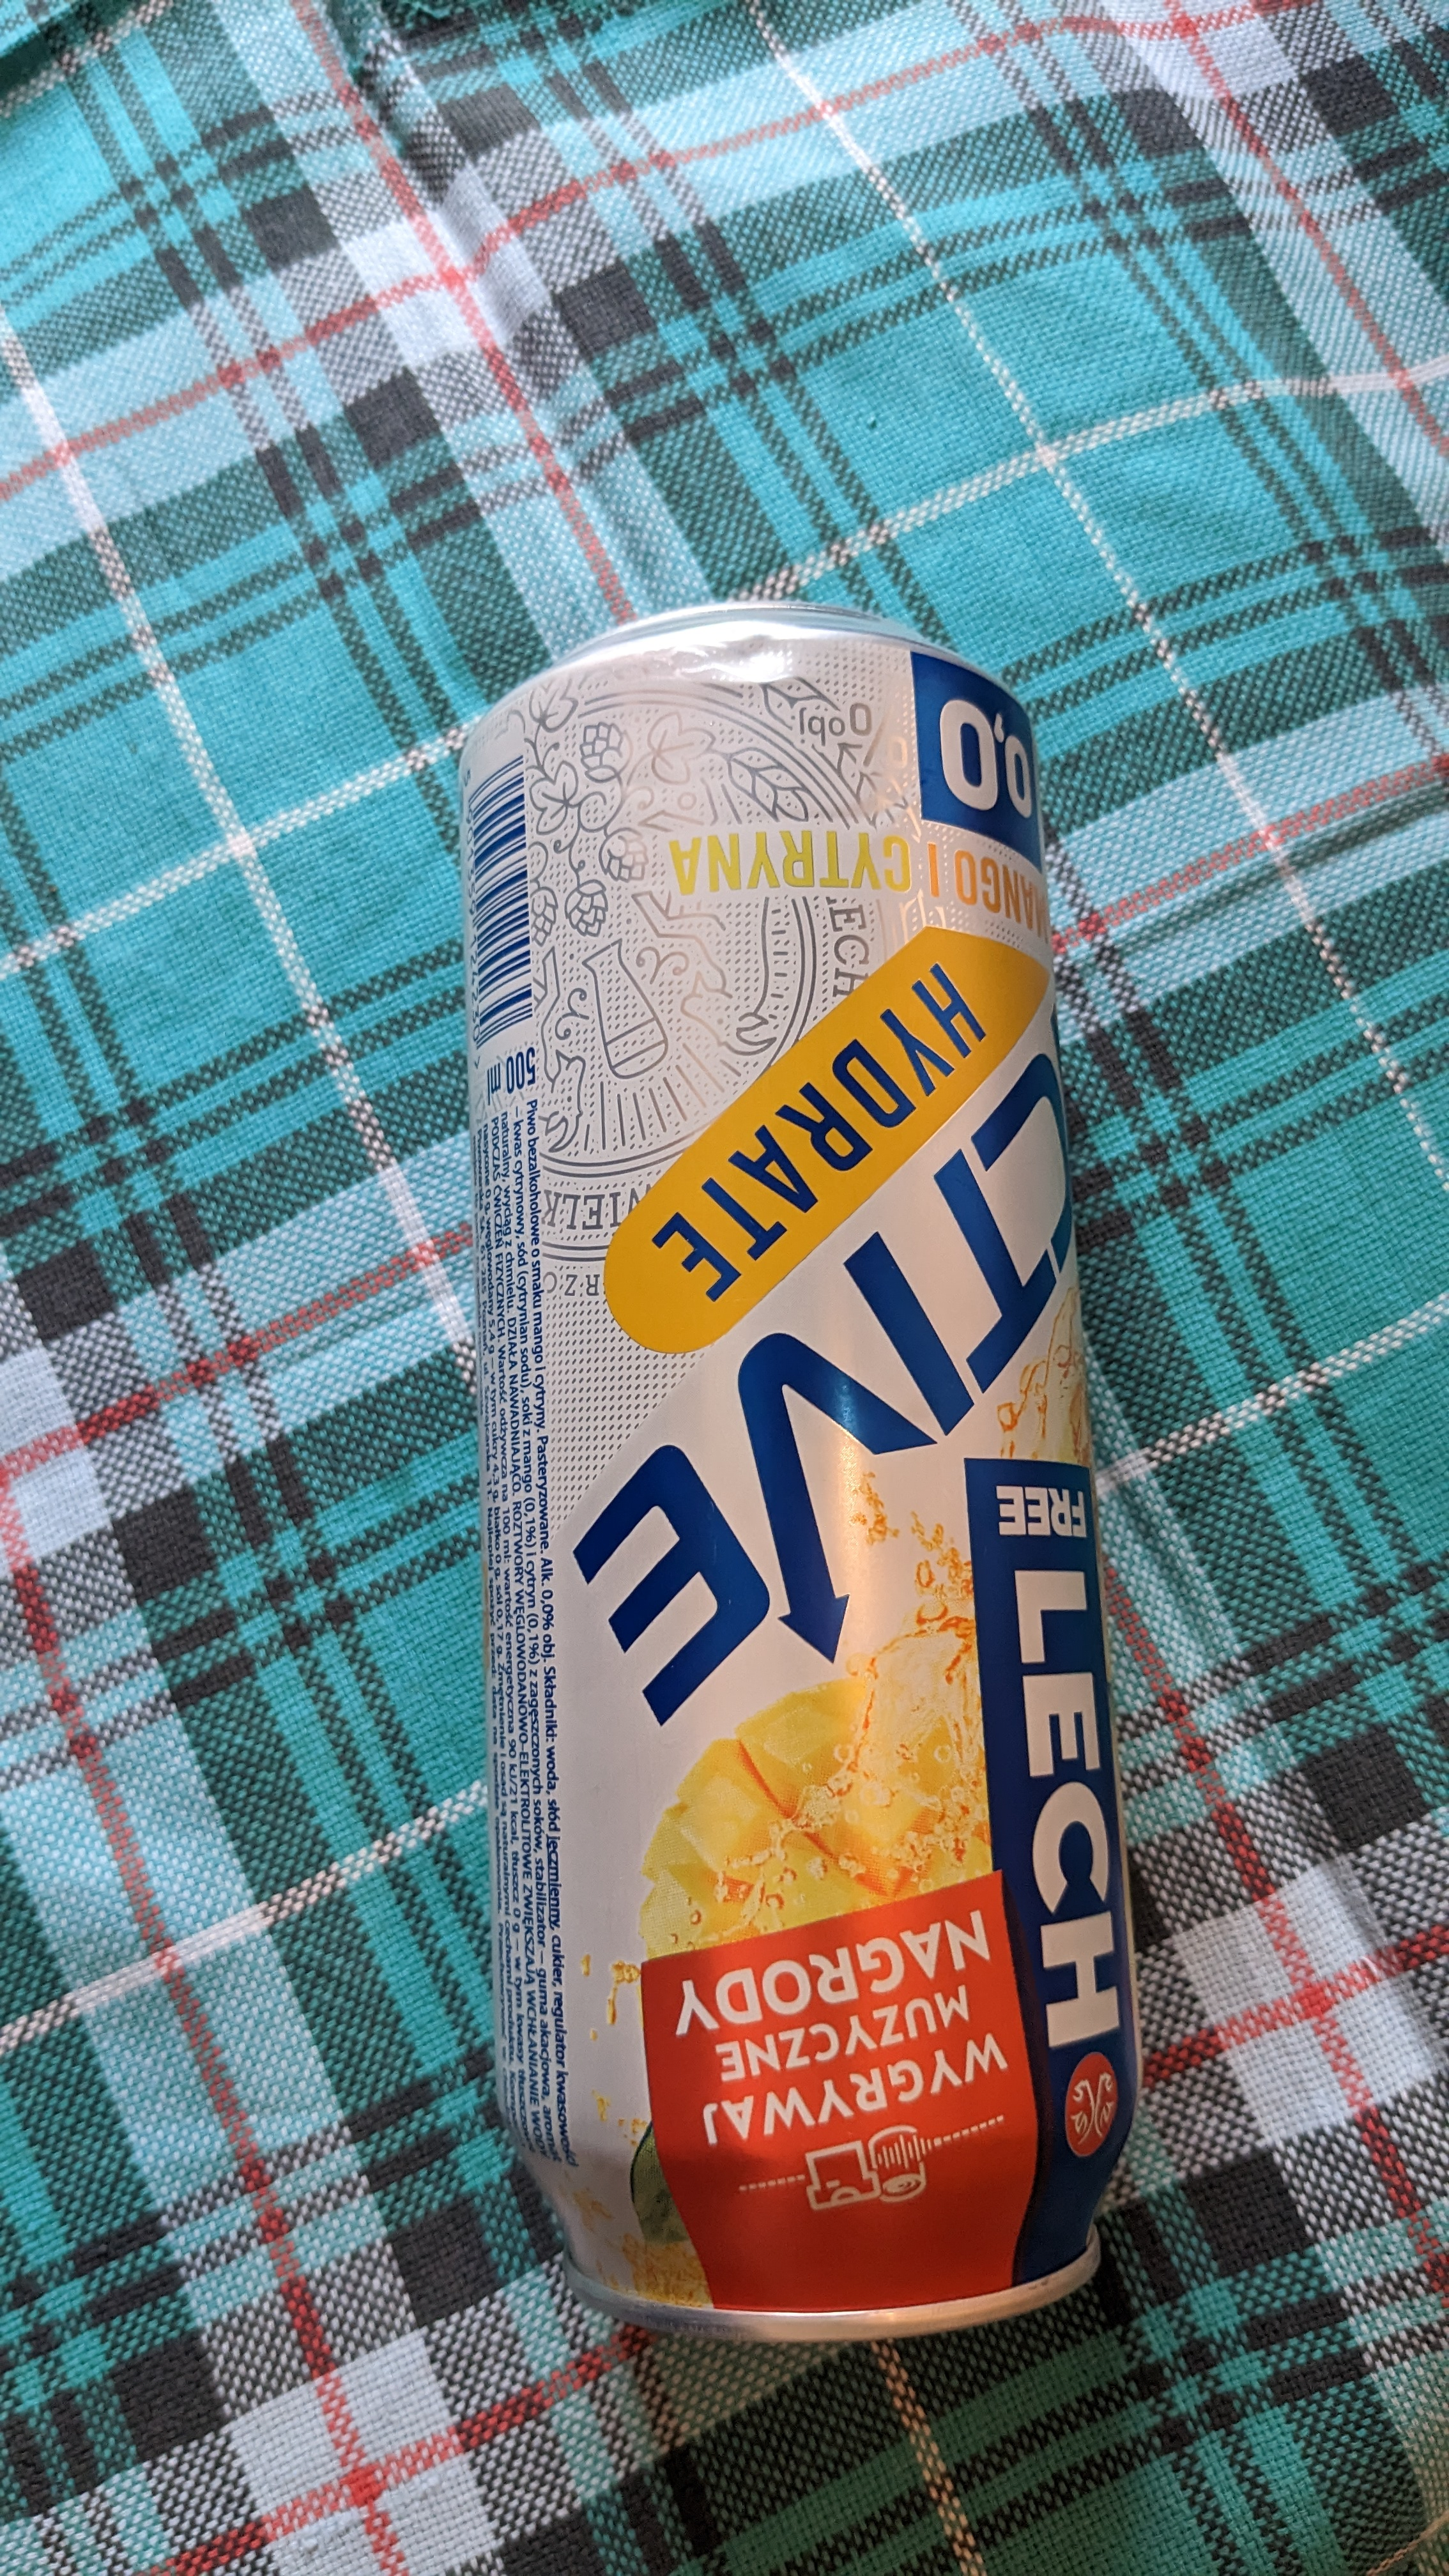lech-active: (410, 605, 1185, 2381)
